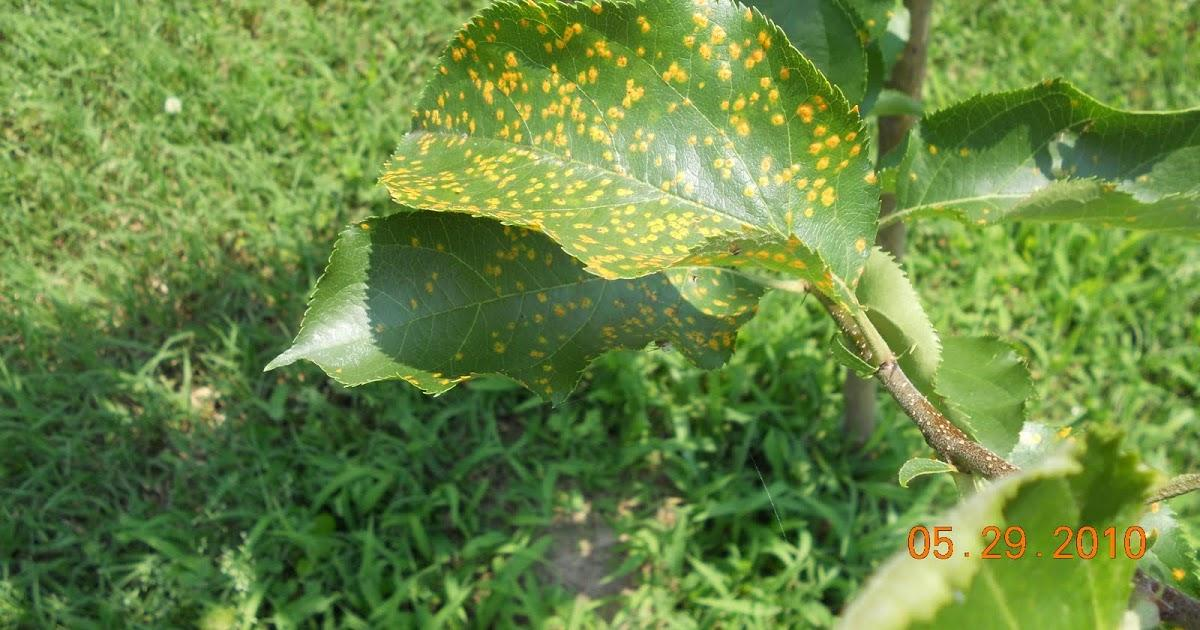Apple rust leaf: (357, 1, 893, 368), (264, 173, 783, 469)
